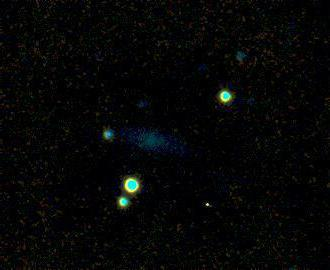star: (191, 188, 221, 218)
